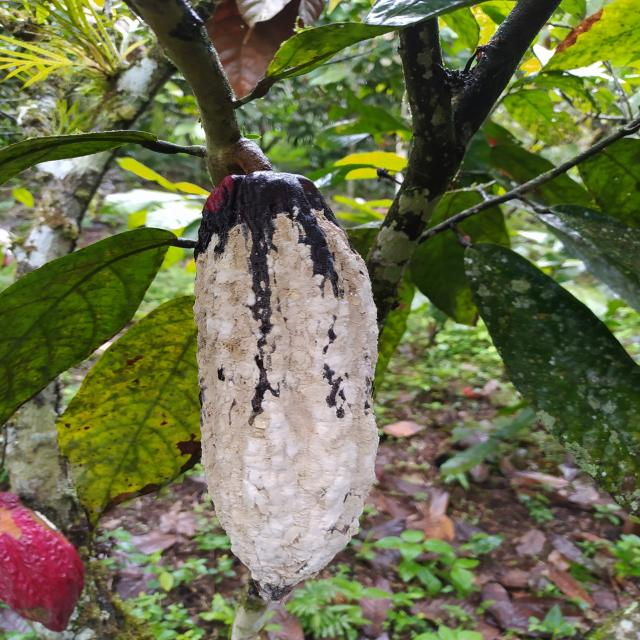Monilia: (192, 170, 383, 603)
Sana: (1, 491, 87, 632)
